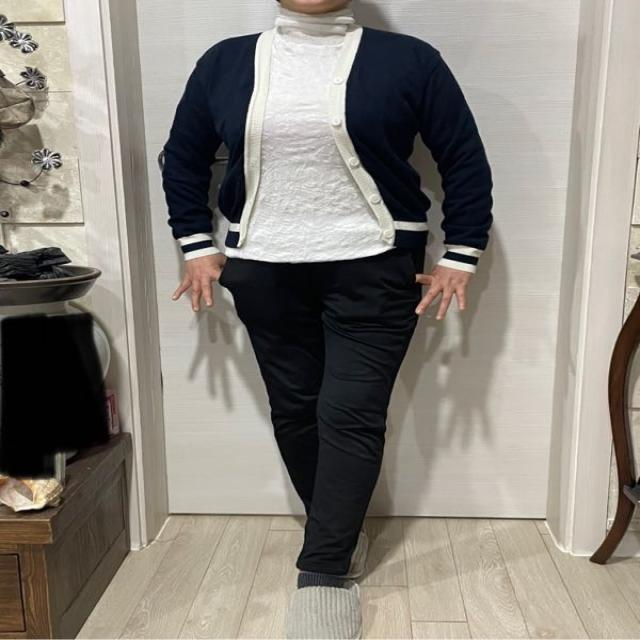cardigan: (160, 27, 494, 276)
denimpants: (220, 232, 430, 586)
